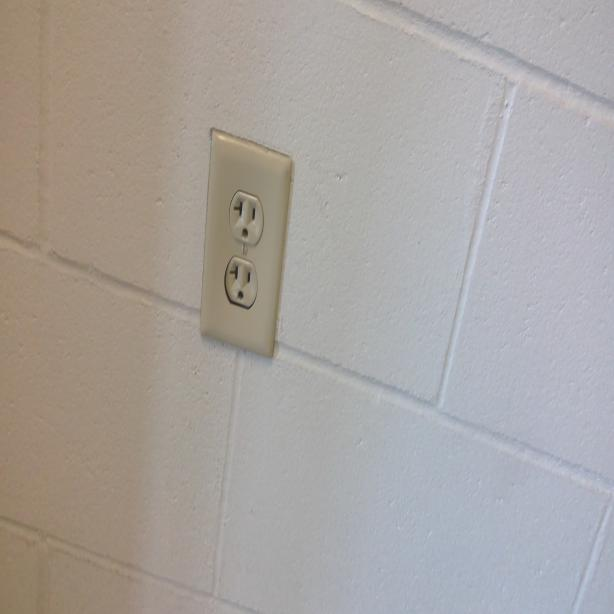typeb: (230, 191, 262, 243), (224, 259, 256, 308)
